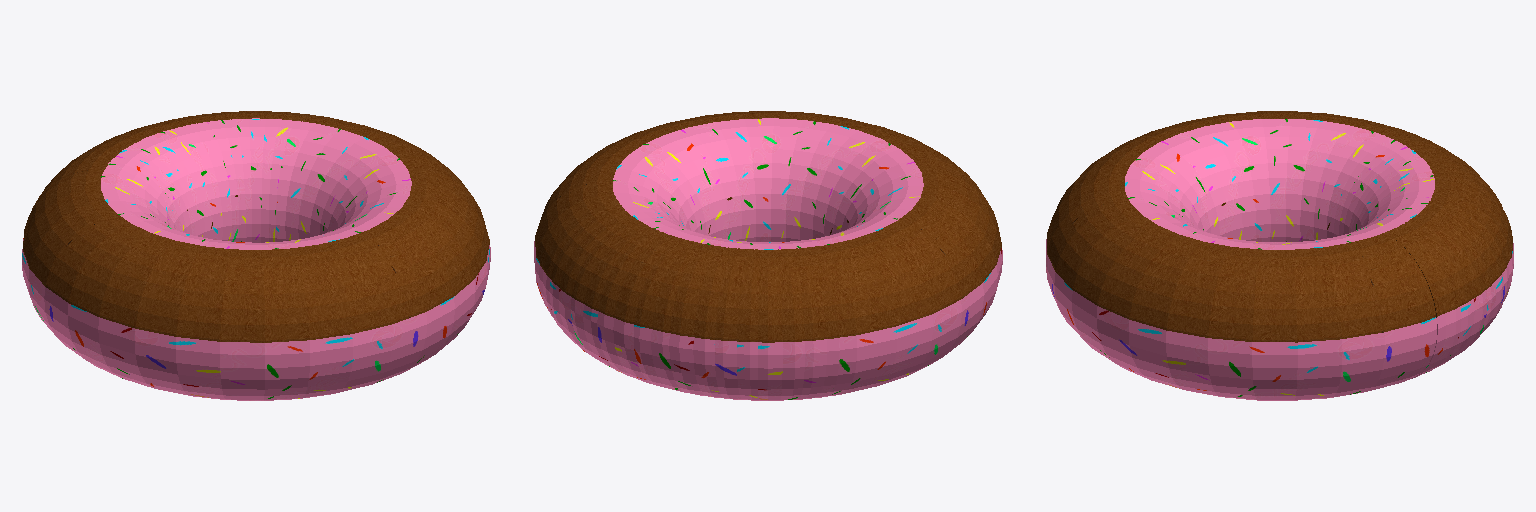
The picture shows the model from 3 angles: view 1: azimuth 30°, elevation 25°; view 2: azimuth 150°, elevation 25°; view 3: azimuth 270°, elevation 25°; orthographic projection.
Visible parts, largest first — view 1: Mesh; view 2: Mesh; view 3: Mesh.
Boxes of the visible parts, <box> form: Mesh: <box>22,111,490,400</box>; Mesh: <box>534,111,1002,400</box>; Mesh: <box>1046,111,1513,400</box>.
Bounding box in the file's own units: 2.45 × 0.8298 × 2.45.
1 materials, 1 textured.